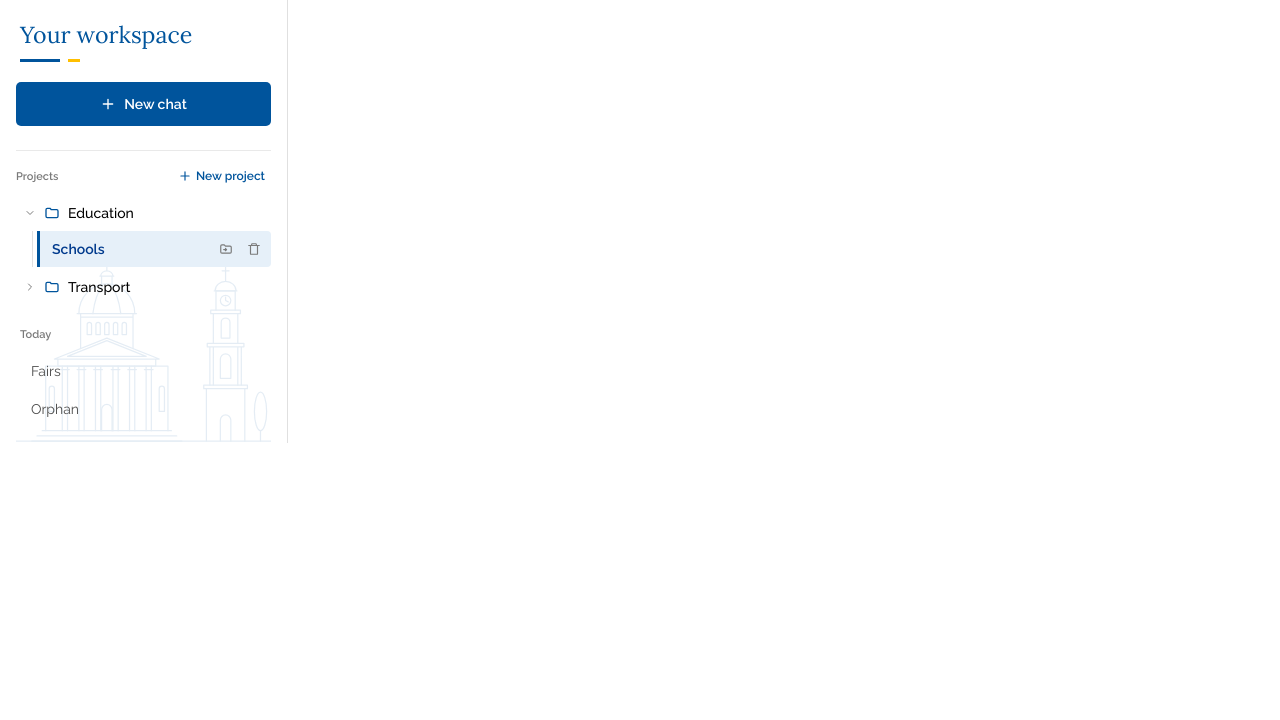
Test: Sidebar projects › creates a project from the dialog
Click the button "New project": {"x": 222, "y": 176} [172,164,271,188]
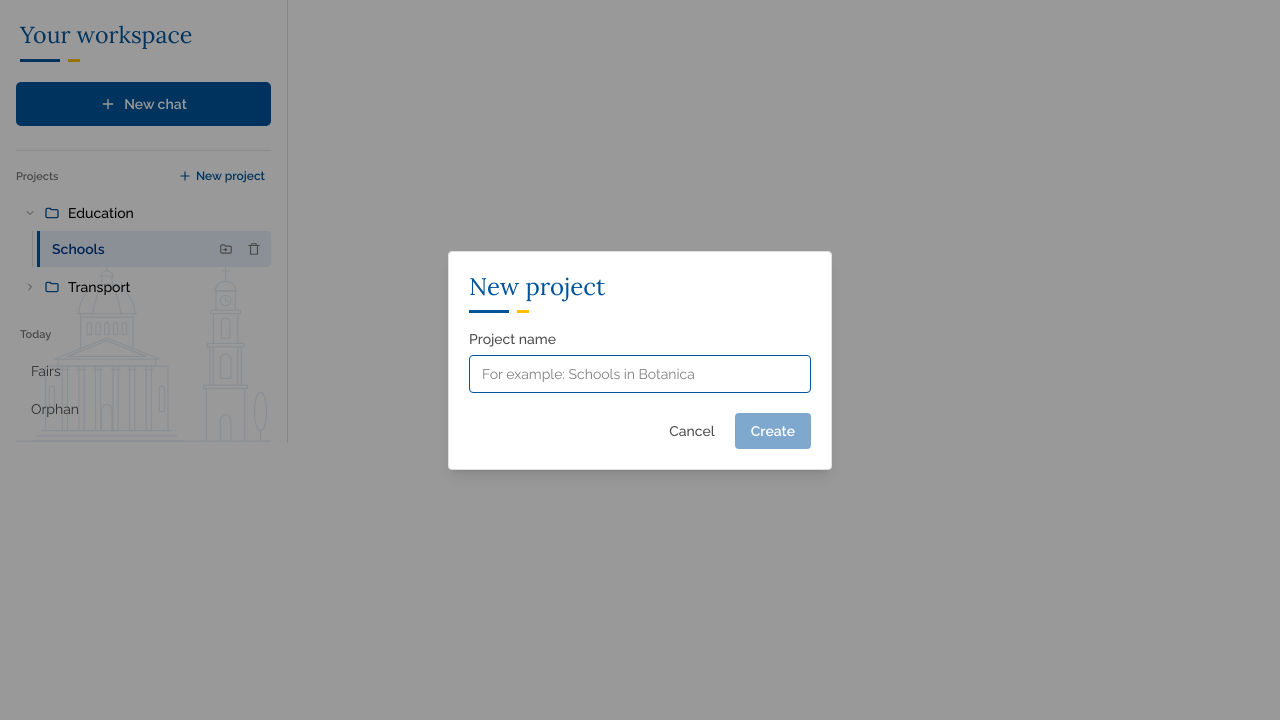
In the field: {"x": 640, "y": 374} [469,354,811,392], type "Parks"
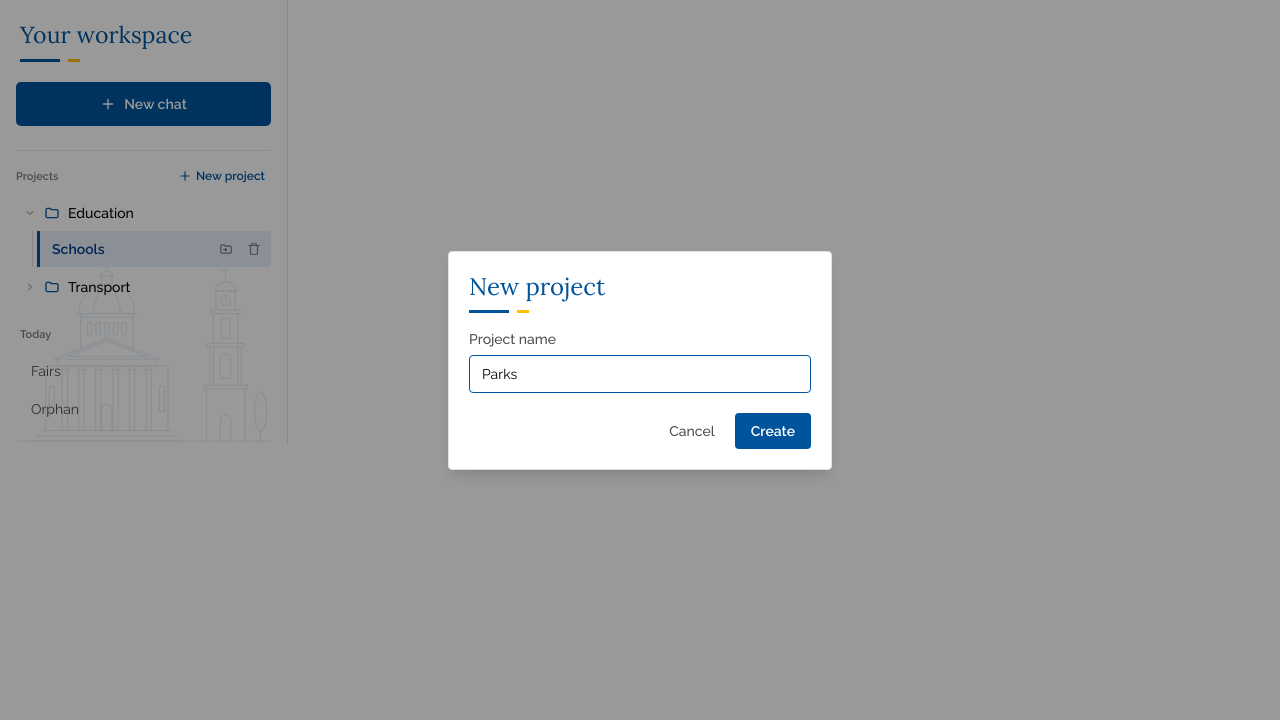
Click the button "Create": {"x": 773, "y": 430} [735,412,811,448]
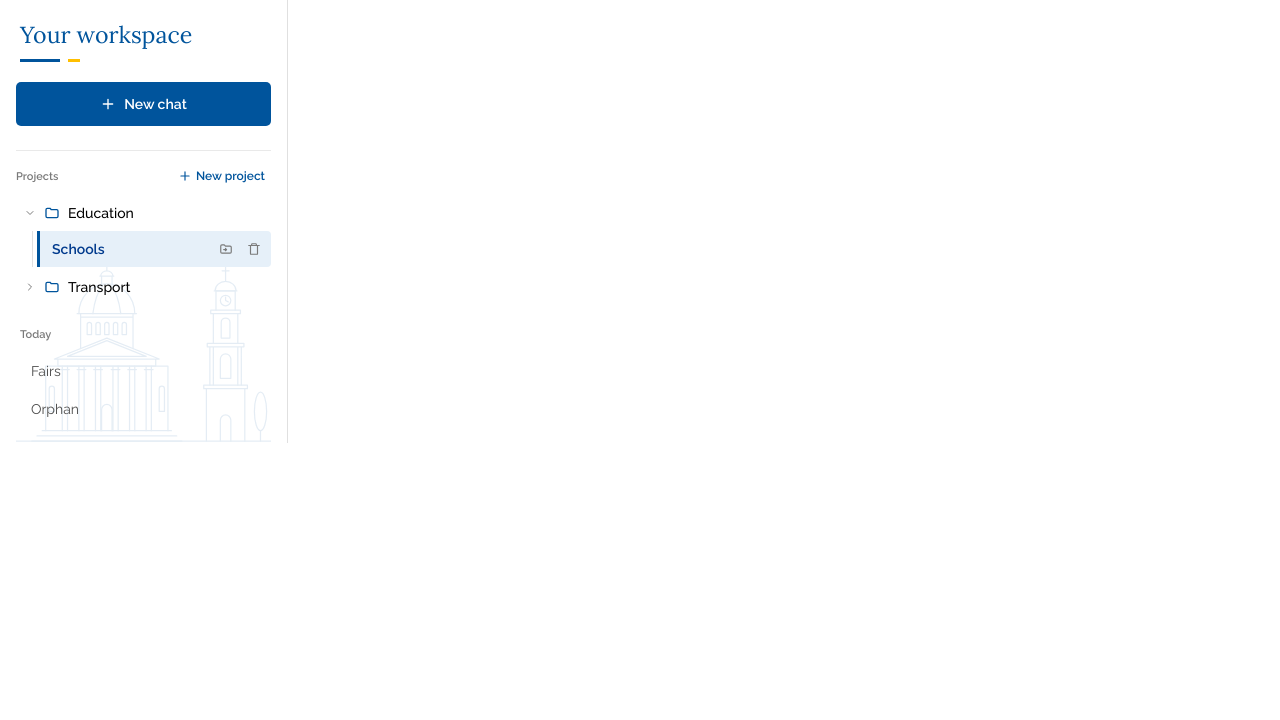
Now the dialog is gone
